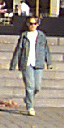person: (17, 15, 45, 113)
